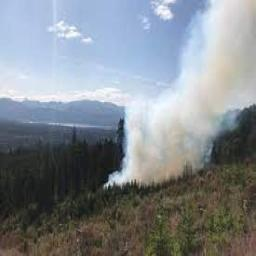Low smoke: (98, 0, 256, 210)
